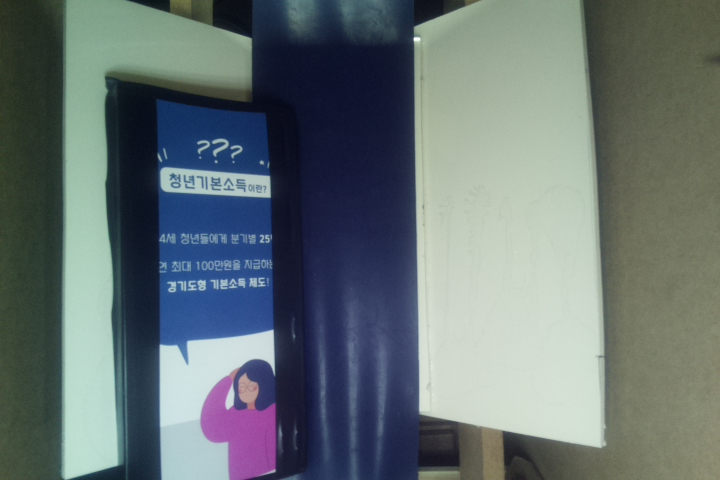book: (105, 78, 304, 480)
